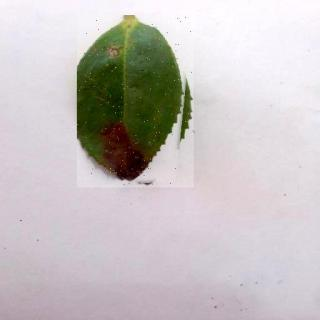Algal Leaf: (78, 17, 195, 190)
